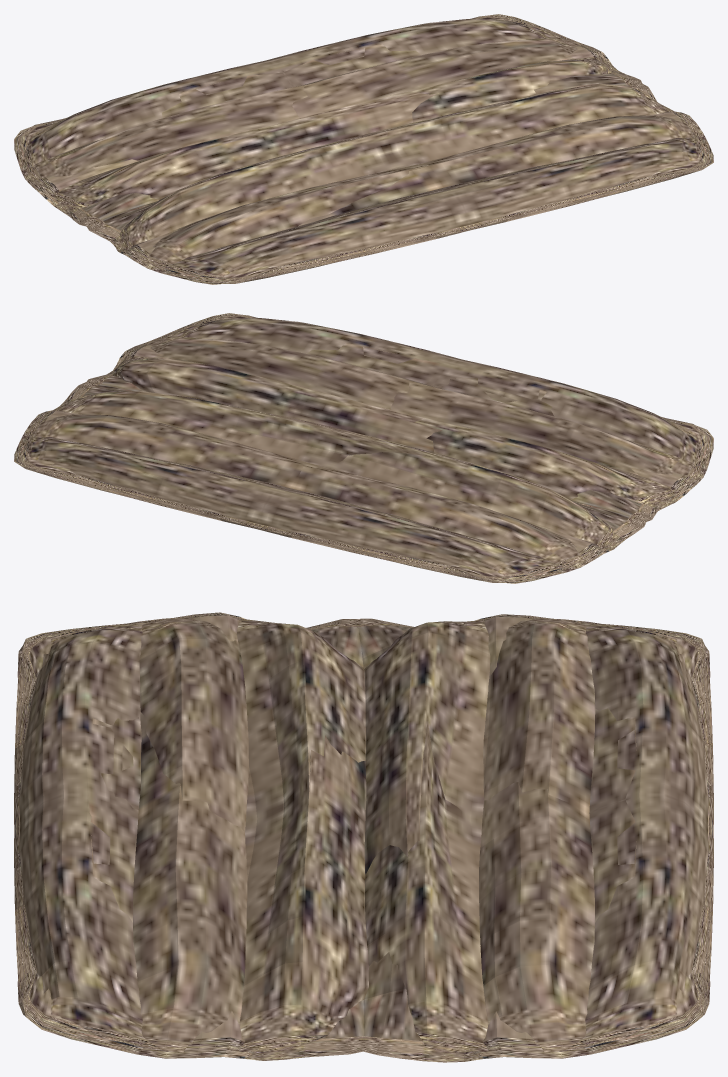
The model's file is tilled-soil2.fbx.
The picture shows the model from 3 angles, top to bottom: view 1: azimuth 30°, elevation 25°; view 2: azimuth 150°, elevation 25°; view 3: azimuth 270°, elevation 25°; orthographic projection. The views are drawn at different scales.
Visible parts, largest first — view 1: Cube; view 2: Cube; view 3: Cube.
Part boxes in pixels (bbox=[...]): Cube: bbox=[14, 14, 713, 284]; Cube: bbox=[14, 313, 713, 583]; Cube: bbox=[14, 612, 713, 1062].
Size of the model in its own units: 383 by 26.31 by 253.
